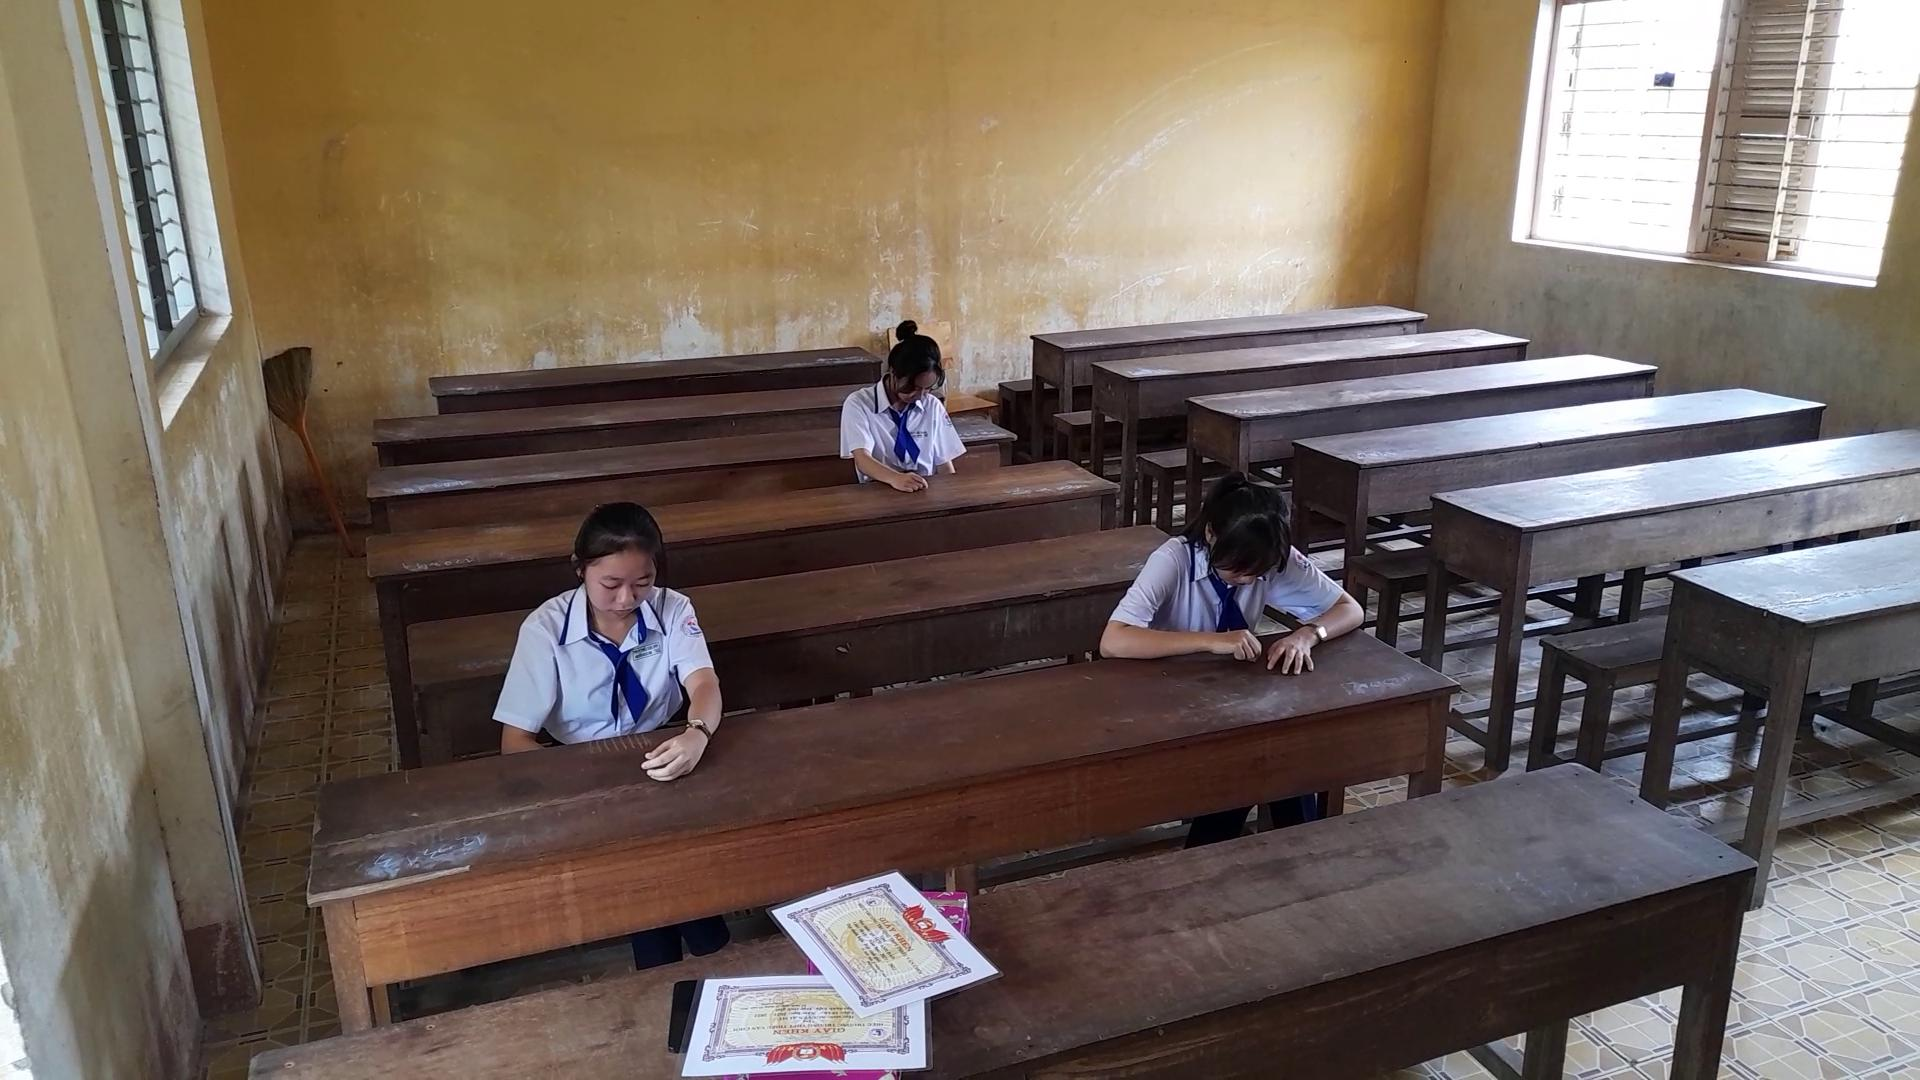Bend Over The Desk: (542, 487, 679, 650), (874, 309, 957, 425)
Hand Under Table: (483, 582, 559, 762), (928, 390, 959, 485)
Normal: (1083, 454, 1383, 683)
